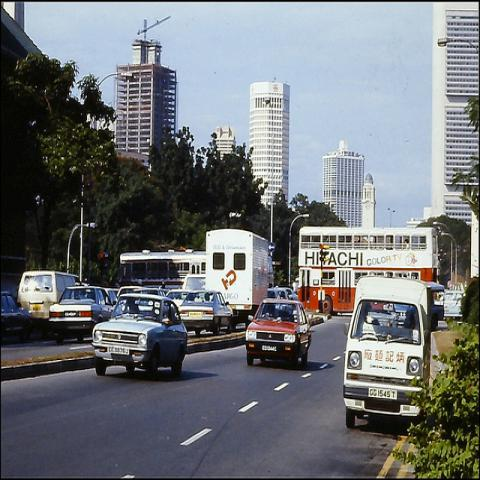bus: (299, 230, 440, 315), (115, 249, 206, 290)
car: (92, 292, 190, 380), (246, 299, 312, 367), (48, 285, 118, 345), (16, 271, 81, 321), (179, 290, 234, 336), (1, 290, 33, 344)
truck: (342, 275, 431, 429), (206, 232, 272, 307), (17, 272, 79, 320)
